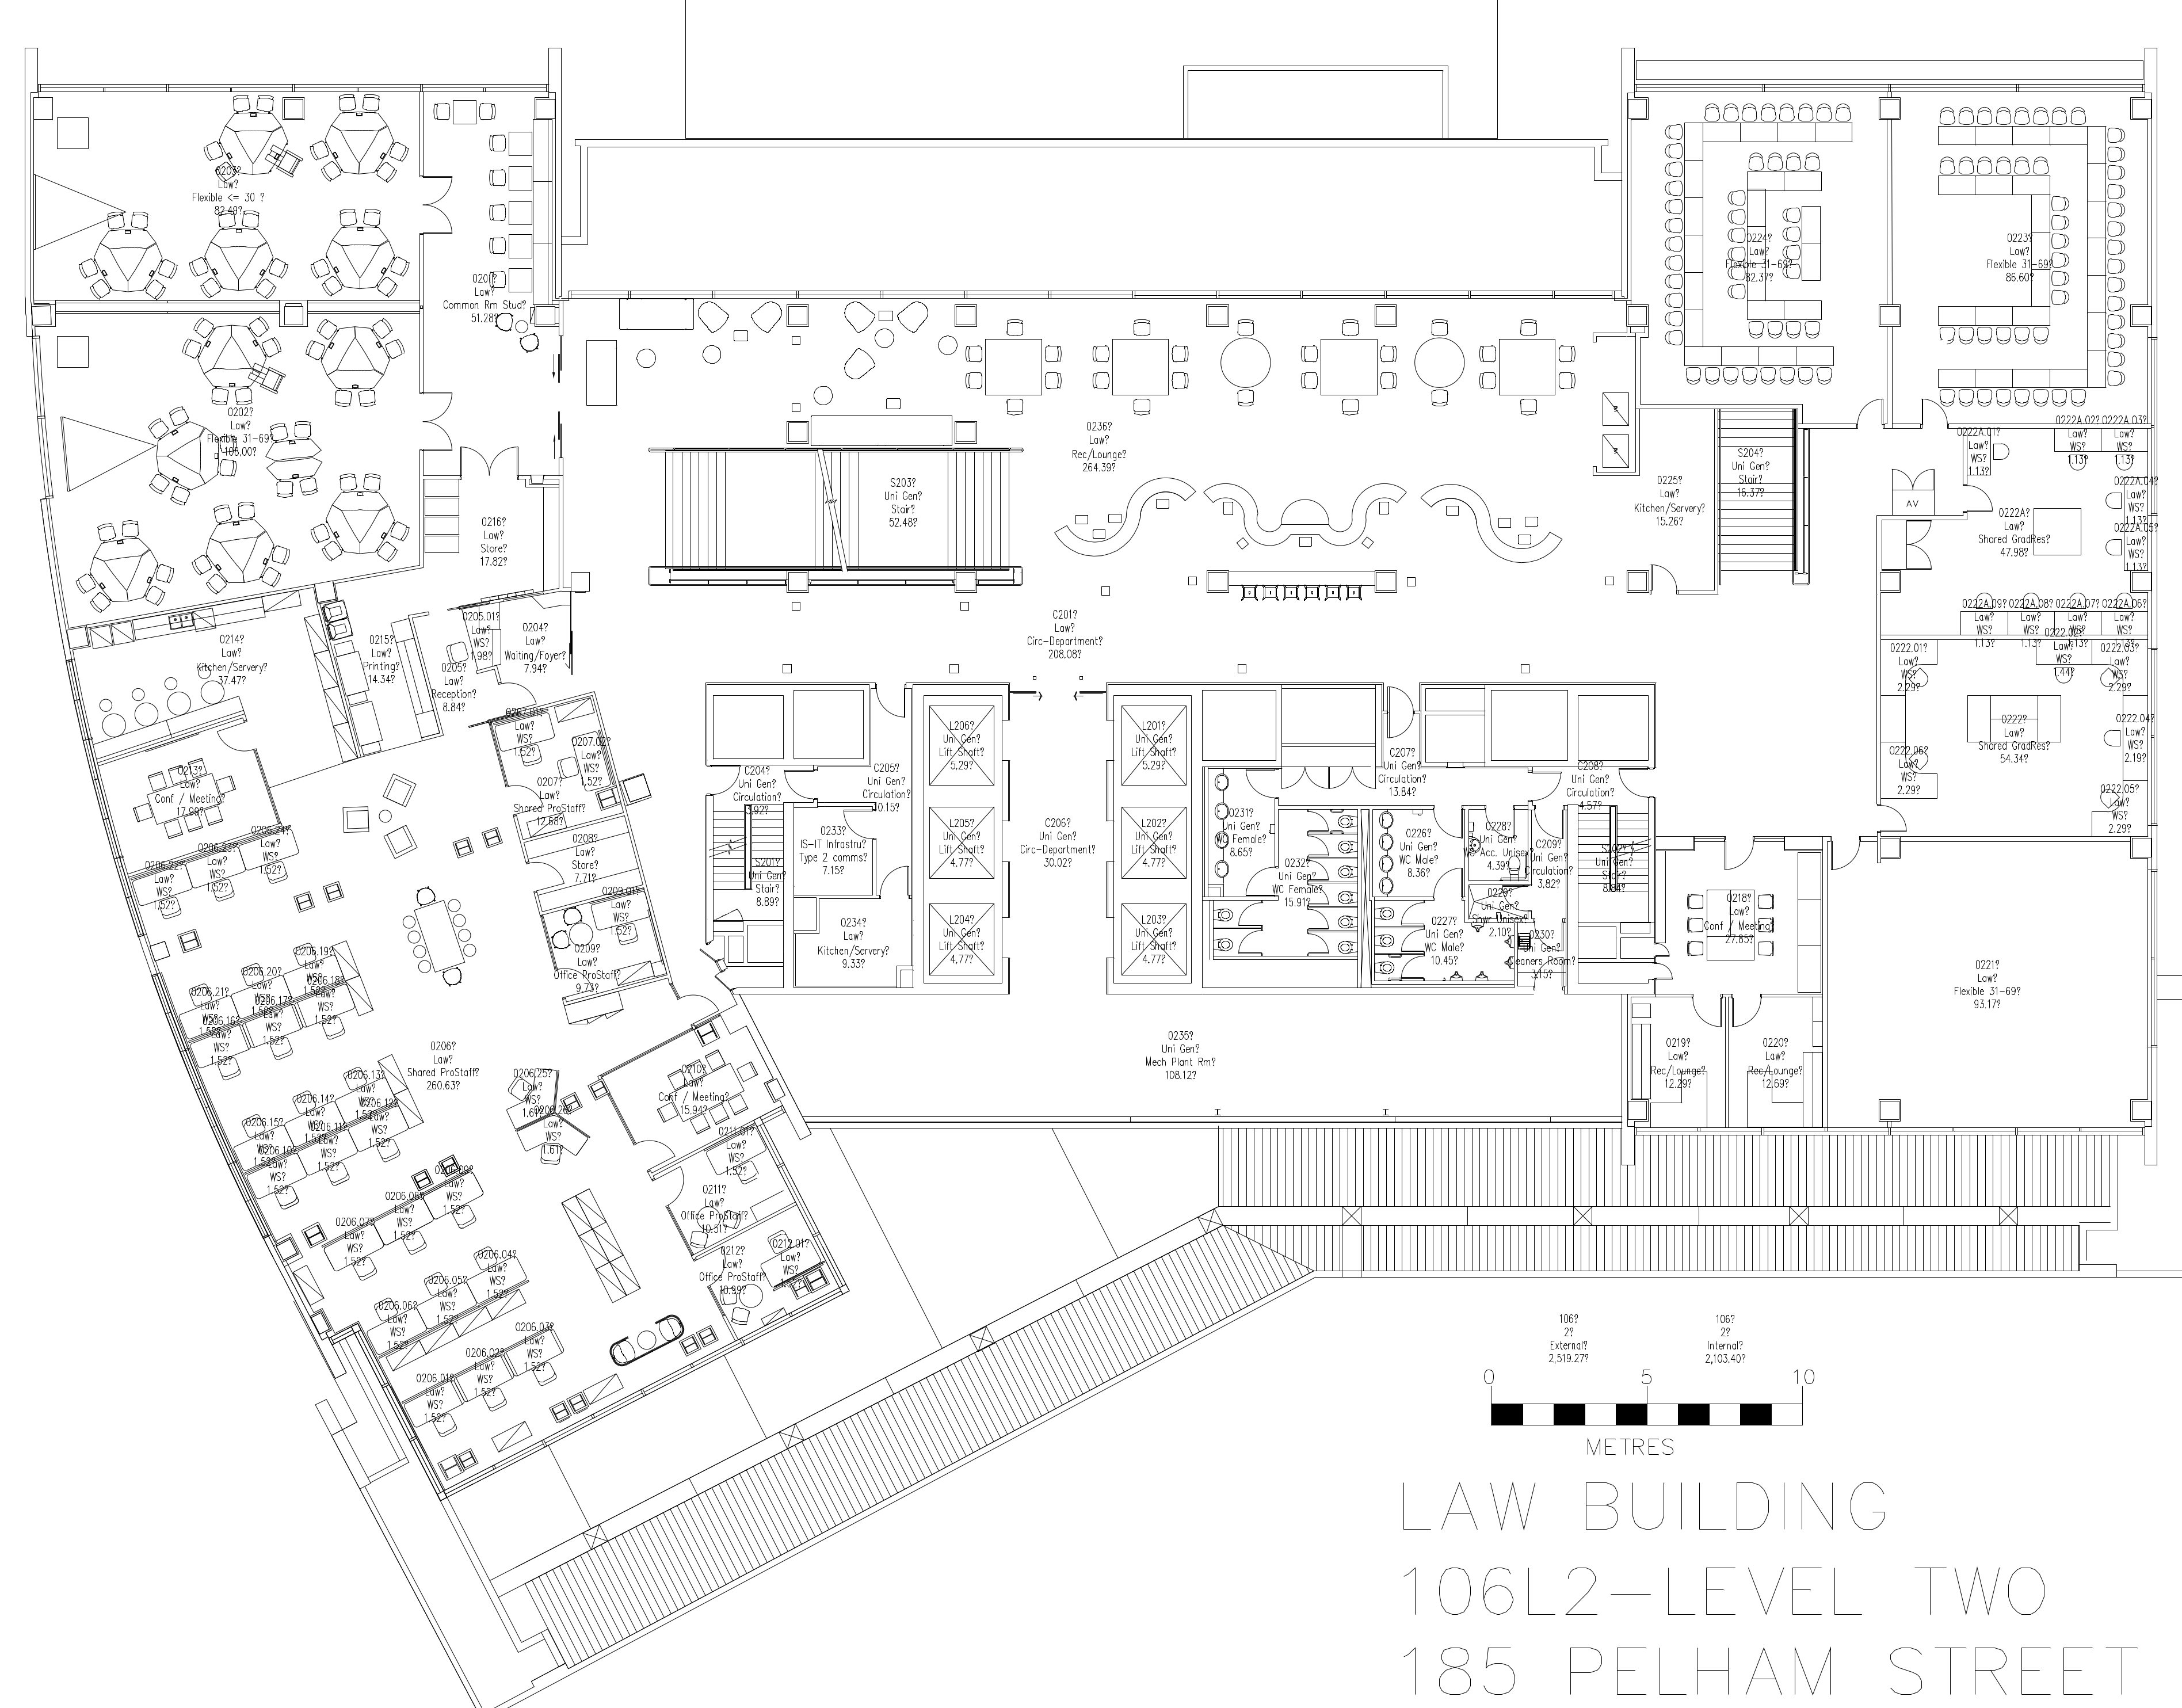door: (423, 168, 464, 239), (422, 386, 460, 457), (457, 439, 522, 473), (1881, 455, 1938, 489), (654, 1164, 694, 1207), (680, 985, 721, 1024), (1906, 519, 1936, 571), (875, 686, 907, 728), (694, 1247, 728, 1286), (878, 861, 910, 902), (1881, 801, 1920, 833), (1281, 771, 1330, 796), (1328, 771, 1378, 796), (638, 1136, 675, 1168), (1722, 840, 1753, 877), (218, 723, 251, 757), (1730, 998, 1762, 1033), (1240, 865, 1275, 897), (1242, 769, 1273, 803), (1431, 806, 1463, 840), (1433, 863, 1465, 897), (1693, 998, 1723, 1033), (1830, 840, 1860, 875), (505, 677, 537, 709), (533, 859, 565, 891), (512, 783, 544, 815), (783, 767, 813, 801), (1856, 395, 1886, 429), (1969, 482, 1996, 516), (1534, 771, 1562, 801), (1619, 767, 1647, 797), (716, 765, 742, 797), (1649, 562, 1679, 588), (1236, 928, 1263, 955), (1305, 905, 1332, 932), (1399, 900, 1426, 927), (1305, 930, 1332, 955), (1397, 928, 1424, 953), (1238, 902, 1263, 927), (1401, 955, 1424, 978), (1656, 960, 1675, 980), (1656, 943, 1670, 960)
